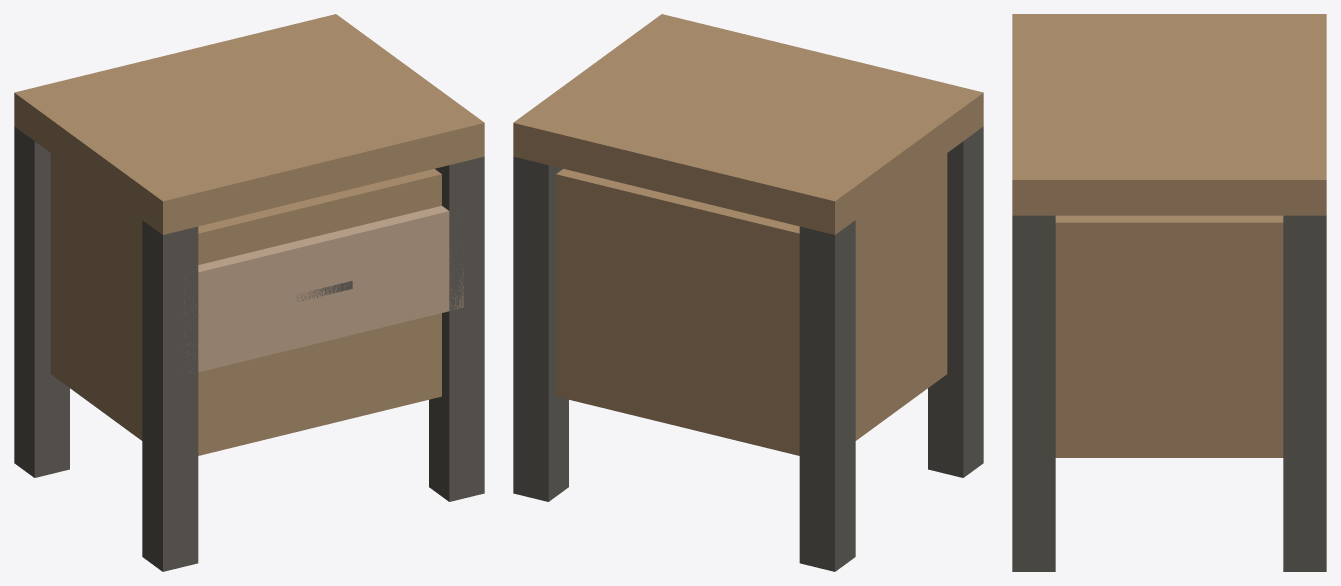
The model's file is BL-PINE.glb.
3 views of the same model, side by side, from view 1: azimuth 30°, elevation 25°; view 2: azimuth 150°, elevation 25°; view 3: azimuth 270°, elevation 25° (orthographic). The views are drawn at different scales.
Parts seen in each view (by area): view 1: Top, Body, Leg (×3), Drawer; view 2: Body, Top, Leg (×3); view 3: Top, Body, Leg (×2).
Part boxes in pixels (box(x1,y1,x2,y2)): Top: box(14, 14, 484, 234); Body: box(50, 153, 441, 455); Leg (×3): box(14, 126, 484, 571); Drawer: box(184, 206, 463, 372); Body: box(556, 153, 947, 455); Top: box(513, 14, 983, 234); Leg (×3): box(513, 126, 983, 571); Top: box(1012, 14, 1326, 215); Body: box(1055, 215, 1283, 457); Leg (×2): box(1012, 215, 1326, 571).
Bounding box in the file's own units: 0.5 × 0.55 × 0.4.
